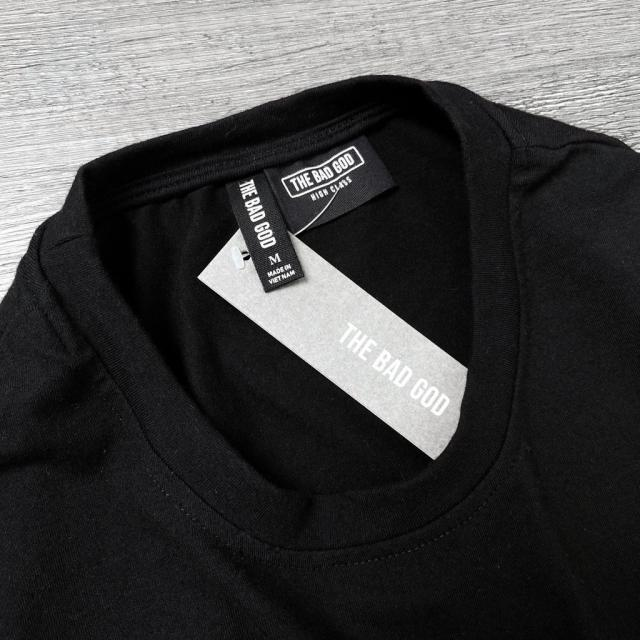Shirt: (0, 63, 639, 640)
